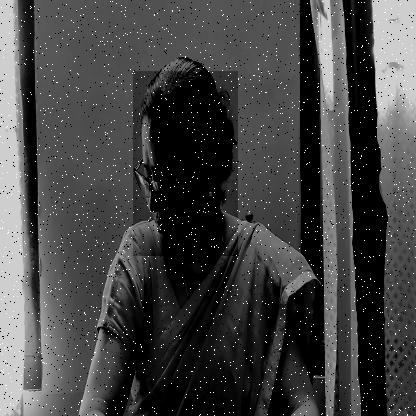Distracted: (133, 71, 238, 256)
